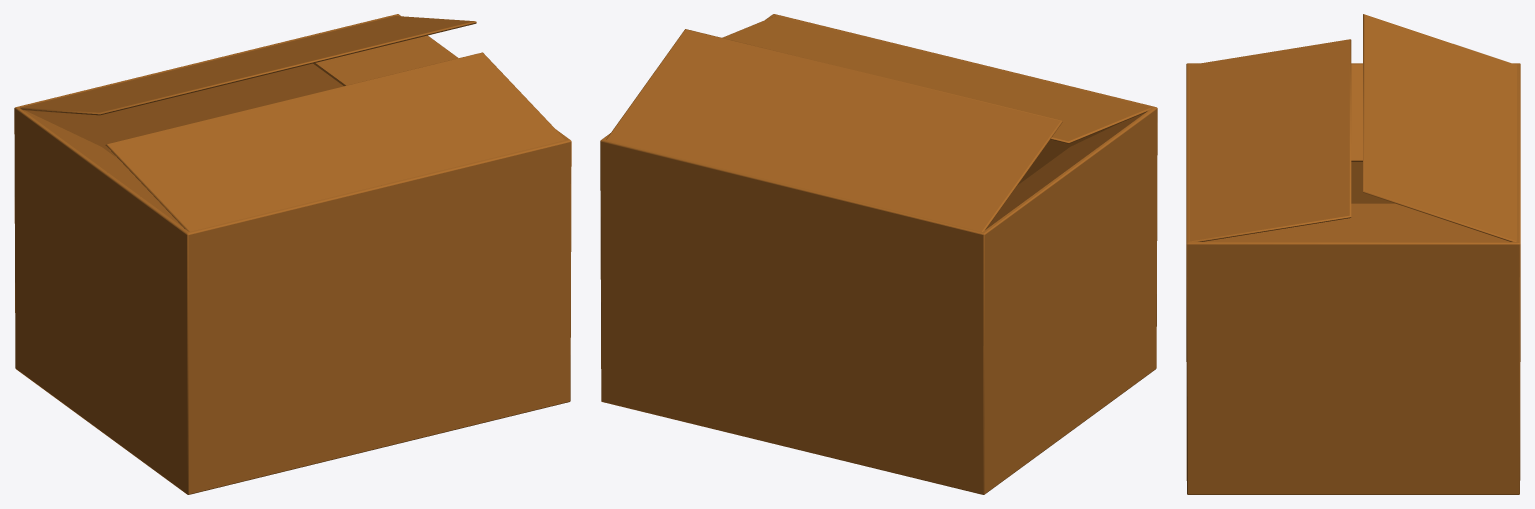
File: Prop_SmallBox.FBX
3 views of the same model, side by side, from view 1: azimuth 30°, elevation 25°; view 2: azimuth 150°, elevation 25°; view 3: azimuth 270°, elevation 25° (orthographic). The views are drawn at different scales.
Visible parts, largest first — view 1: Baytek_PlayerRoom_Set03_SmallBox; view 2: Baytek_PlayerRoom_Set03_SmallBox; view 3: Baytek_PlayerRoom_Set03_SmallBox.
Part boxes in pixels (<box>): Baytek_PlayerRoom_Set03_SmallBox: <box>14,14,571,494</box>; Baytek_PlayerRoom_Set03_SmallBox: <box>600,14,1157,494</box>; Baytek_PlayerRoom_Set03_SmallBox: <box>1186,14,1520,494</box>.
Size of the model in its own units: 34.51 by 26.97 by 27.01.
